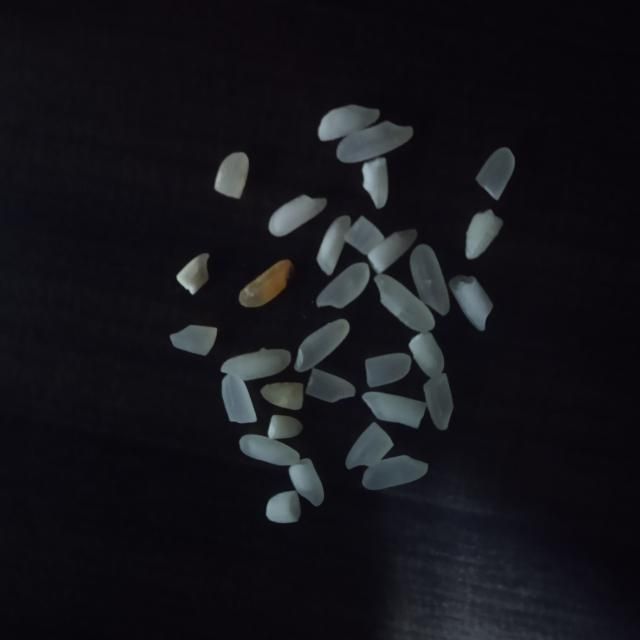Broken: (238, 258, 292, 308), (449, 274, 494, 332), (361, 391, 428, 429), (317, 105, 381, 142), (367, 228, 418, 274), (362, 455, 428, 490), (346, 422, 394, 469), (475, 147, 516, 202), (316, 214, 352, 276), (465, 208, 503, 258), (288, 457, 324, 508), (222, 374, 258, 424), (305, 368, 356, 403), (408, 331, 445, 379), (423, 374, 454, 431), (364, 352, 412, 388), (343, 215, 385, 255), (214, 152, 249, 200), (361, 156, 389, 210), (170, 324, 217, 356), (177, 253, 210, 295), (260, 382, 304, 410), (265, 491, 301, 524), (268, 414, 303, 440)
Full: (374, 274, 436, 332), (336, 120, 413, 163), (293, 318, 351, 372), (410, 244, 450, 316), (268, 194, 326, 237), (316, 262, 370, 308), (220, 348, 292, 381), (240, 434, 300, 466)
